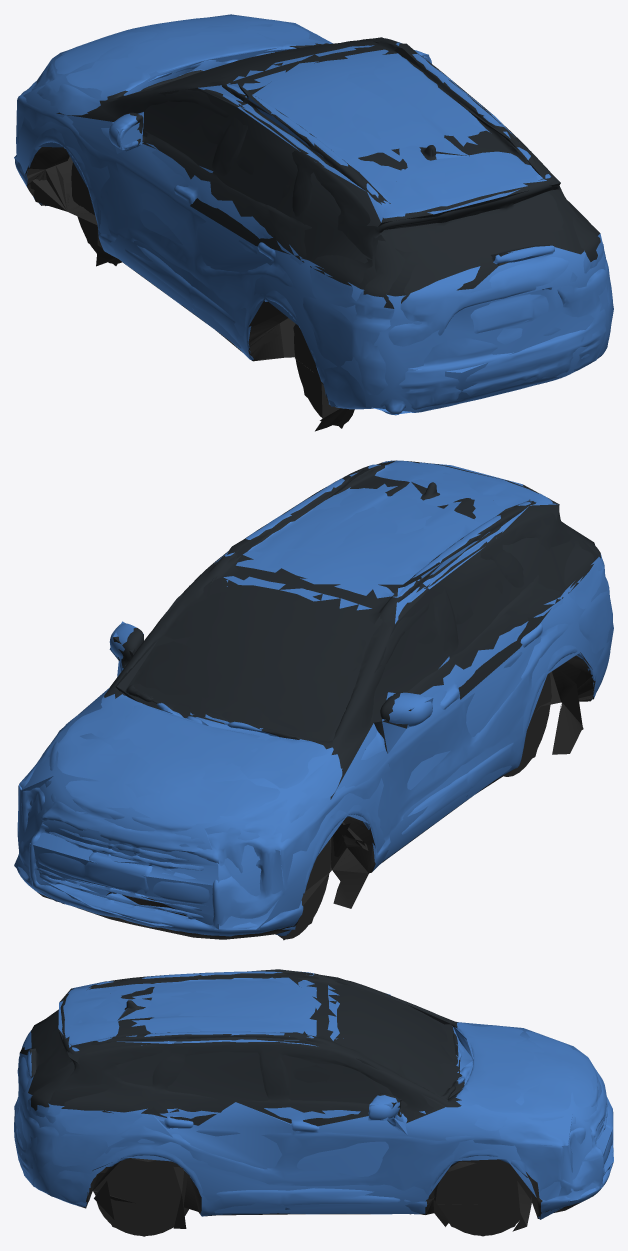
File: kia-sportage.glb
The picture shows the model from 3 angles, top to bottom: view 1: azimuth 30°, elevation 25°; view 2: azimuth 150°, elevation 25°; view 3: azimuth 270°, elevation 25°; orthographic projection. The views are drawn at different scales.
Visible parts, largest first — view 1: body, far; view 2: body, far; view 3: body, far.
Part boxes in pixels (left/top/right/bottom): body: left=15, top=16, right=612, bottom=431; far: left=14, top=14, right=613, bottom=428; body: left=17, top=460, right=612, bottom=939; far: left=14, top=460, right=613, bottom=940; body: left=14, top=971, right=613, bottom=1235; far: left=14, top=969, right=613, bottom=1236.
Bounding box in the file's own units: 2.15 × 1.69 × 4.63.
